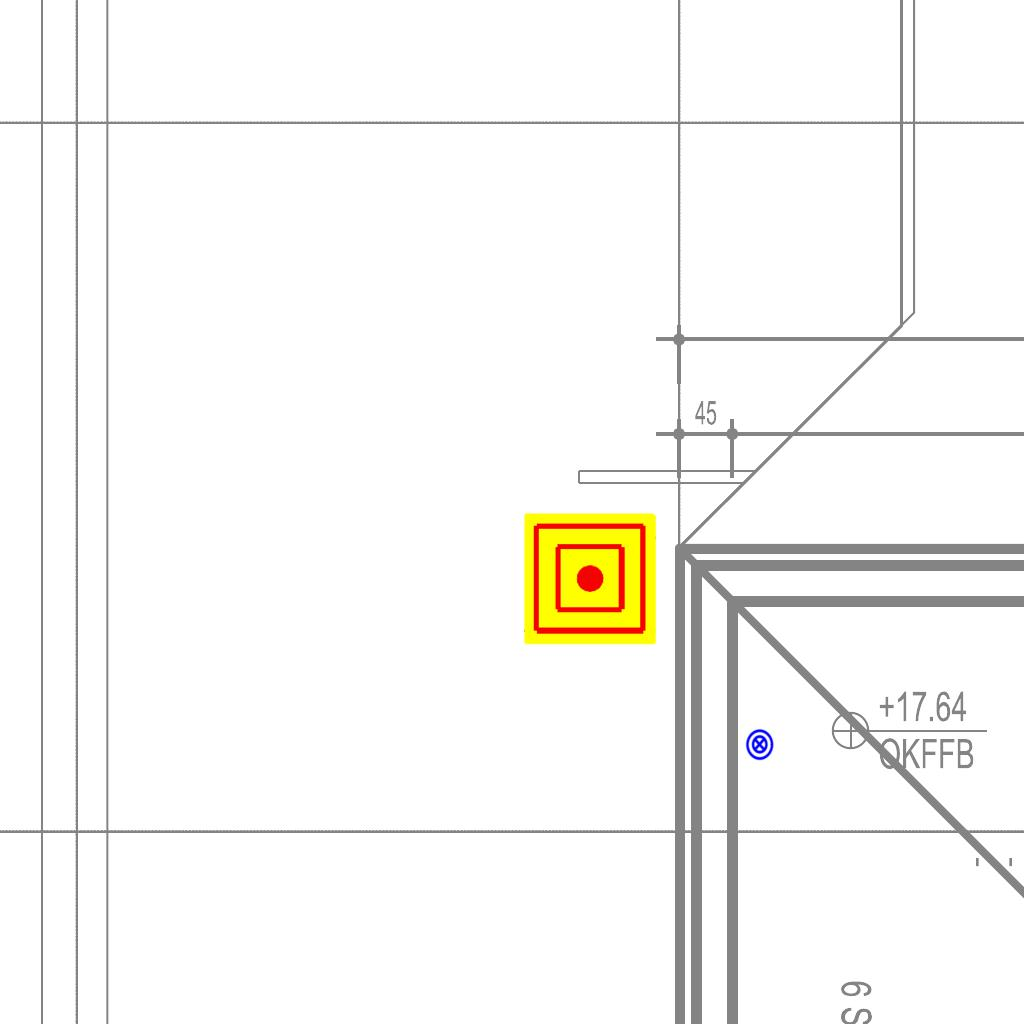NAM-Nichtautomatischer_Melder: (524, 513, 656, 645)
Taster_beleuchtet: (743, 728, 776, 761)
